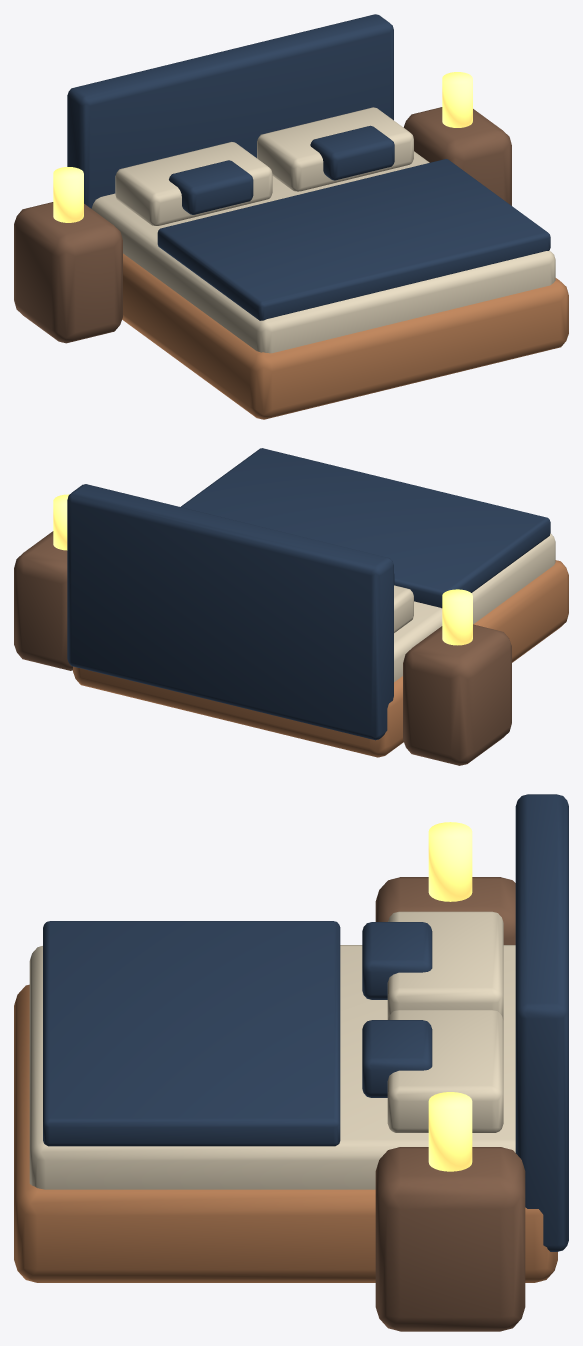
File: bed.glb
The picture shows the model from 3 angles, top to bottom: view 1: azimuth 30°, elevation 25°; view 2: azimuth 150°, elevation 25°; view 3: azimuth 270°, elevation 25°; orthographic projection. The views are drawn at different scales.
Visible parts, largest first — view 1: root_navy, root_cream, root_copper, root_wood, root_warm; view 2: root_navy, root_wood, root_copper, root_cream, root_warm; view 3: root_navy, root_cream, root_copper, root_wood, root_warm.
Boxes of the visible parts, <box> form: root_navy: <box>67,14,550,320</box>; root_cream: <box>91,107,555,353</box>; root_copper: <box>122,253,568,419</box>; root_wood: <box>14,107,511,343</box>; root_warm: <box>53,72,472,222</box>; root_navy: <box>67,448,550,740</box>; root_wood: <box>14,531,511,765</box>; root_copper: <box>73,560,568,757</box>; root_cream: <box>394,533,555,681</box>; root_warm: <box>53,494,472,645</box>; root_navy: <box>43,794,568,1251</box>; root_cream: <box>29,911,515,1189</box>; root_copper: <box>14,984,557,1282</box>; root_wood: <box>375,877,525,1331</box>; root_warm: <box>428,822,472,1171</box>.
Bounding box in the file's own units: 3.11 × 1.28 × 2.29.
